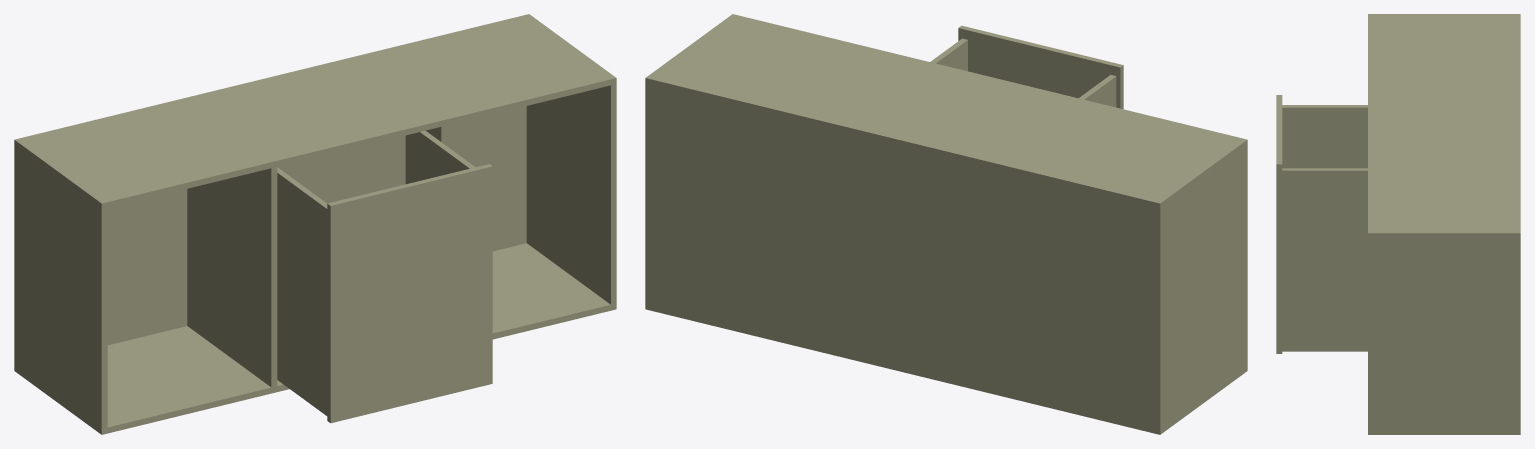
Rendered from meuble_691306de64fd5.glb.
The picture shows the model from 3 angles, left to right: view 1: azimuth 30°, elevation 25°; view 2: azimuth 150°, elevation 25°; view 3: azimuth 270°, elevation 25°; orthographic projection. The views are drawn at different scales.
Visible parts, largest first — view 1: world; view 2: world; view 3: world.
Boxes of the visible parts, box(x1,y1,x2,y2) form: world: box(14, 14, 616, 434); world: box(645, 14, 1247, 434); world: box(1276, 14, 1520, 434).
Size of the model in its own units: 1.7 by 0.73 by 0.8.
